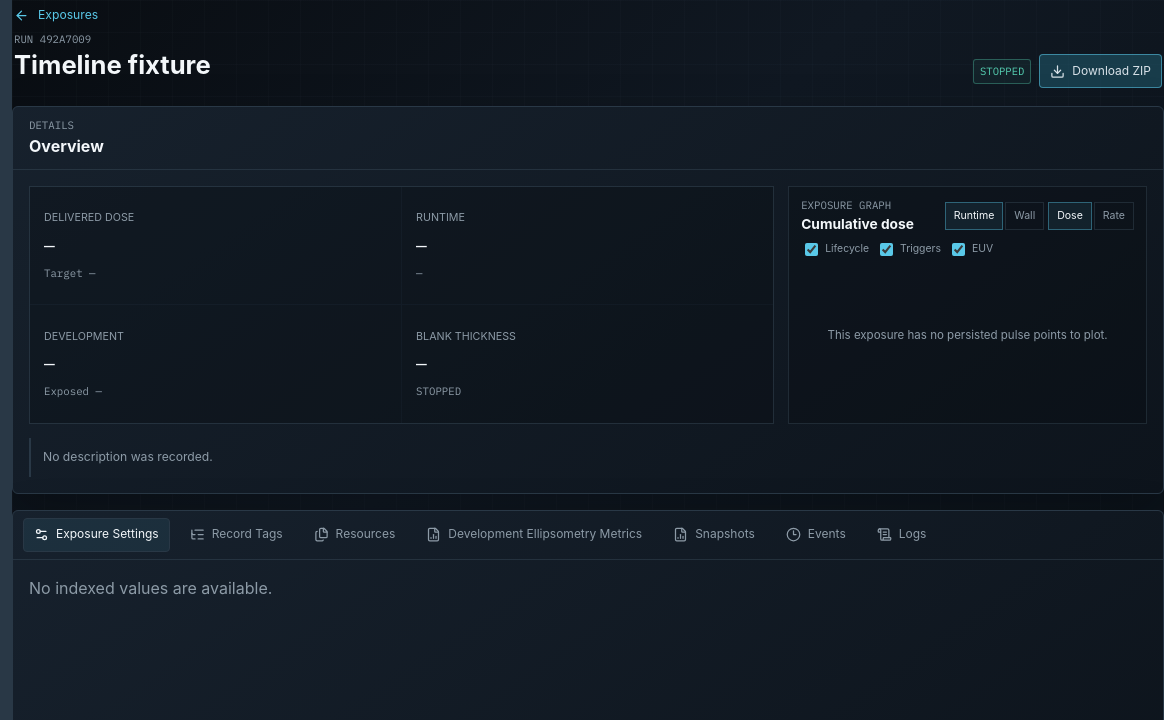
Test: ExperimentDetailPage events tab › shows raw integrity state and filters events by source and category
The width and height of the screenshot is (1164, 720).
Click the button "Events": [816, 535] box top-left (775, 518), bottom-right (857, 552)
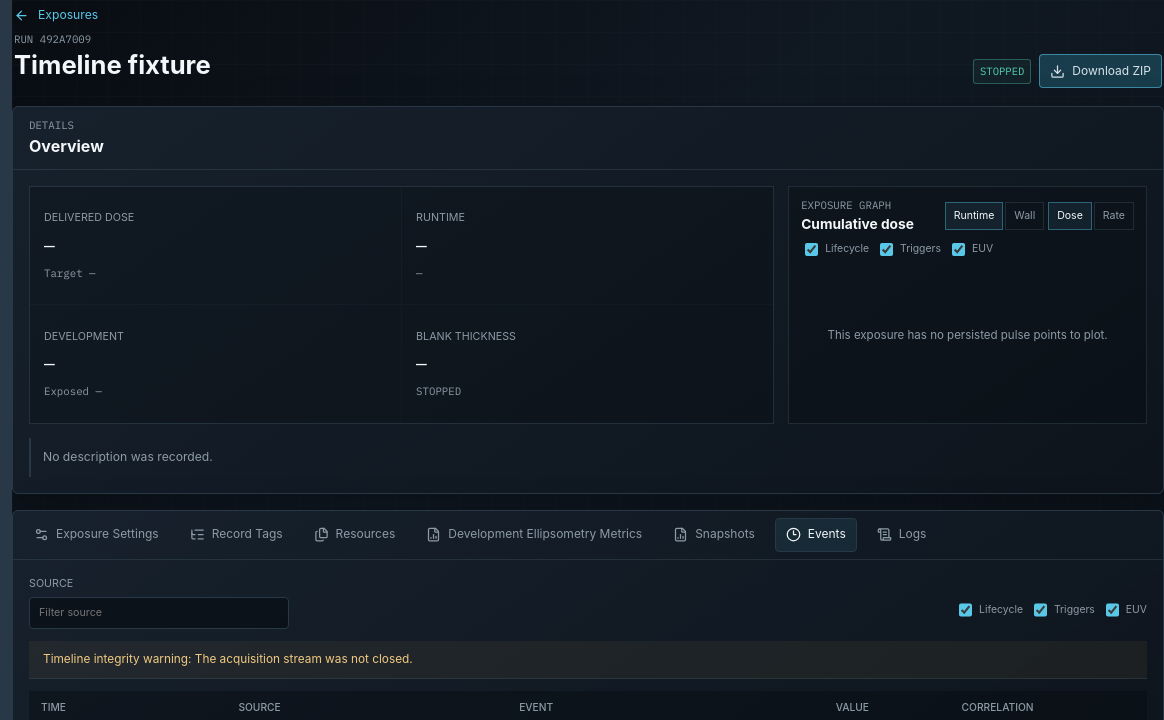
Expected: the text "acquisition stream was not closed" is shown, top-left (195, 652), bottom-right (413, 666)
In the field labelled "Source": [159, 613] box top-left (29, 597), bottom-right (289, 629), type "acquisition"
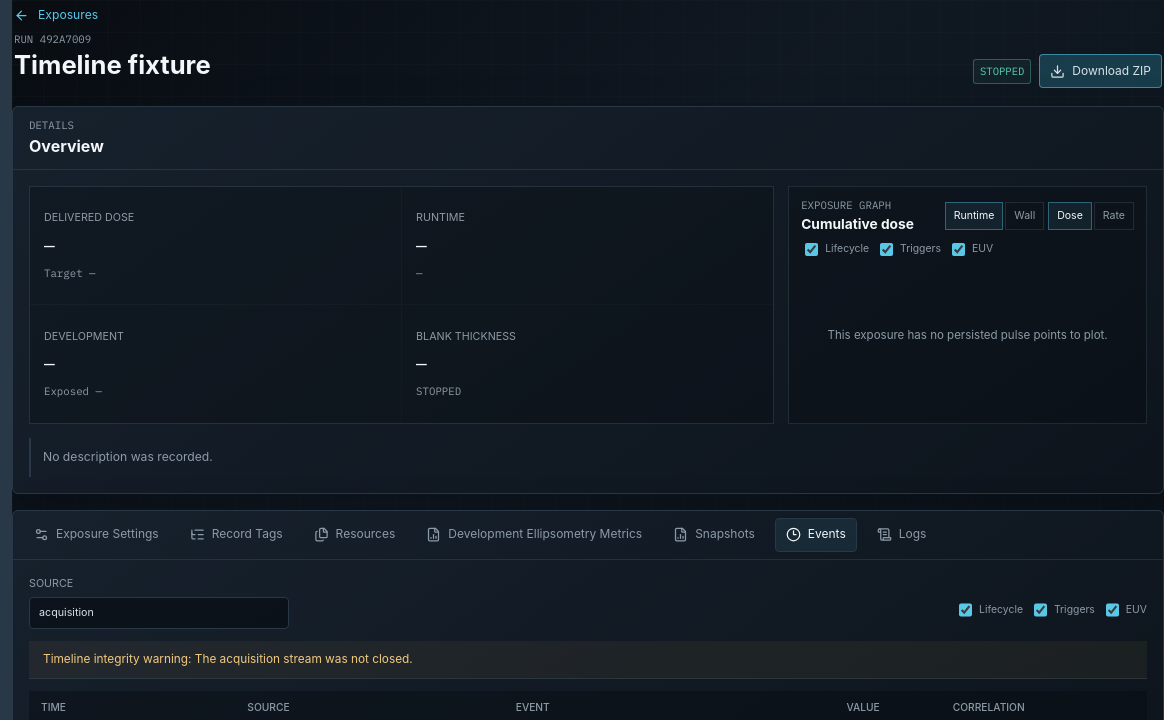
Click the 2nd checkbox labelled "Triggers": [1040, 610] box top-left (1034, 594), bottom-right (1047, 626)
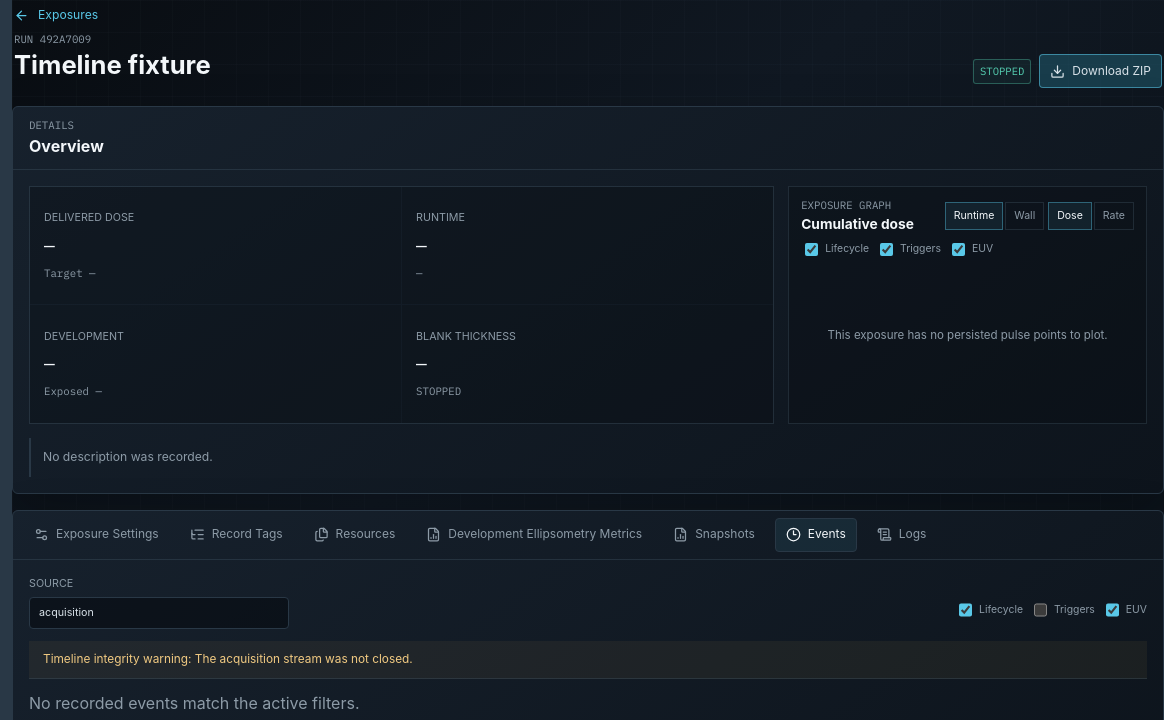
Expected: the text "No recorded events match the active filters." is shown, top-left (29, 693), bottom-right (360, 713)
